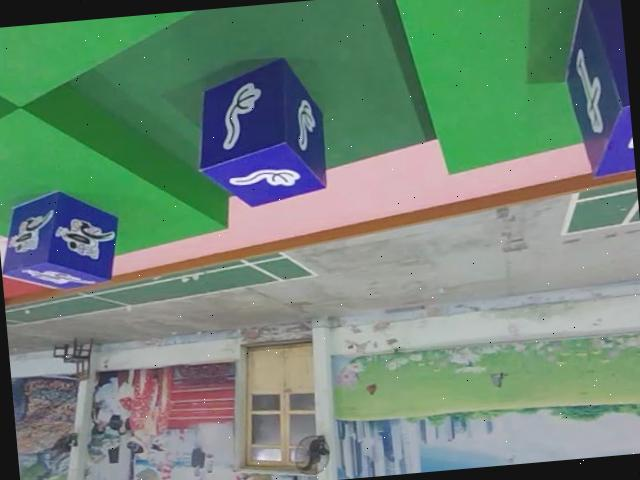R1 Blue: (0, 184, 126, 294)
R2 Real Blue: (188, 49, 329, 208), (557, 0, 635, 181)
